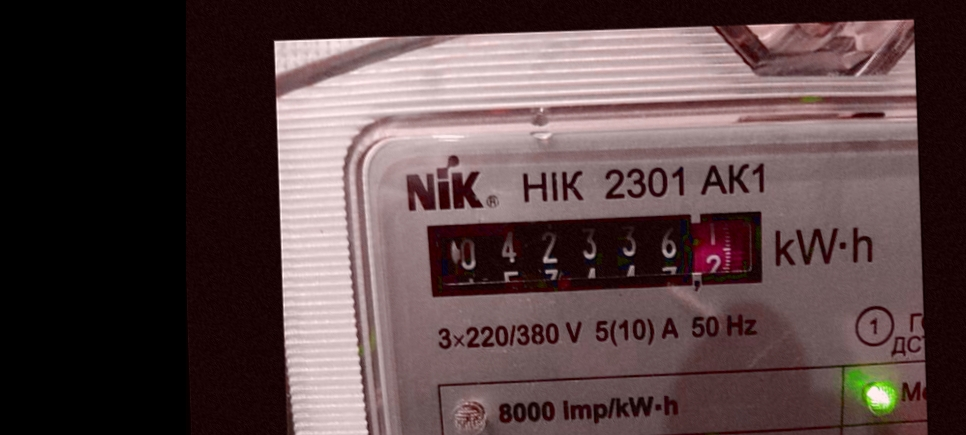0: (458, 236, 479, 272)
1: (706, 219, 720, 248)
2: (539, 229, 560, 266), (704, 253, 724, 275)
3: (580, 224, 600, 263), (618, 223, 639, 259)
4: (499, 228, 519, 265)
6: (657, 224, 680, 260)
screen: (419, 201, 774, 306)
